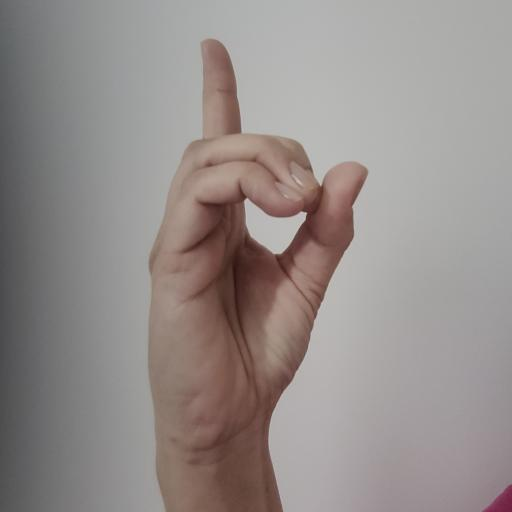D: (149, 40, 367, 462)
